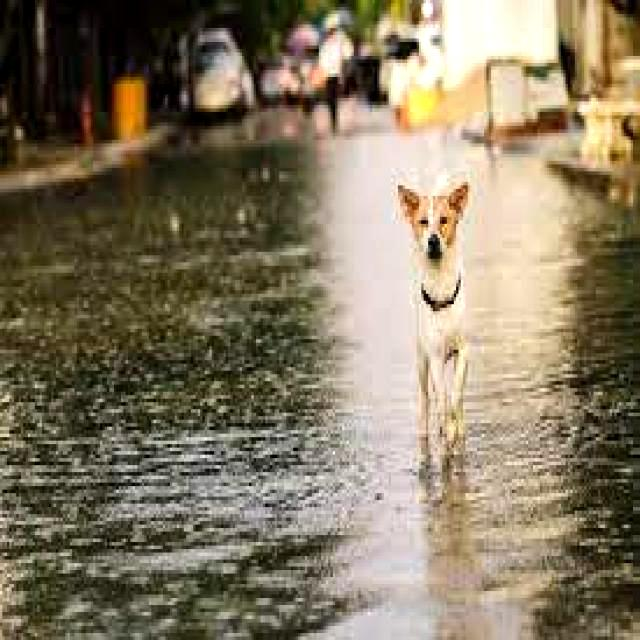dog: (394, 171, 486, 455)
